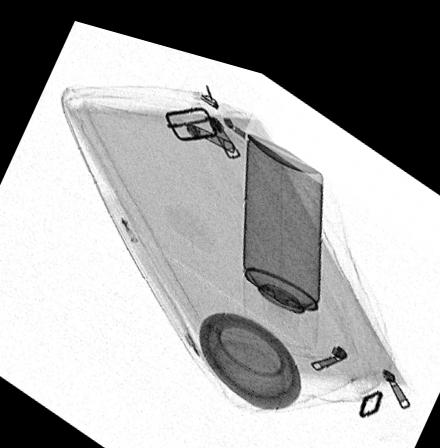Sprayer: (242, 117, 321, 331)
